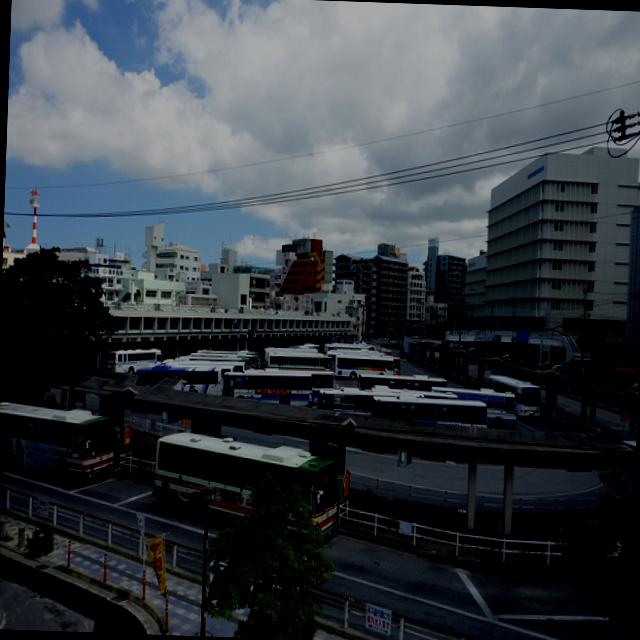Vehicle: (147, 428, 342, 552), (188, 328, 461, 399), (0, 401, 115, 482), (369, 395, 488, 429), (430, 385, 516, 428), (222, 367, 314, 407), (135, 363, 230, 397), (316, 384, 416, 416), (488, 373, 540, 419), (334, 354, 401, 382), (357, 372, 447, 392), (105, 346, 163, 374), (267, 351, 334, 372), (174, 358, 248, 372)
